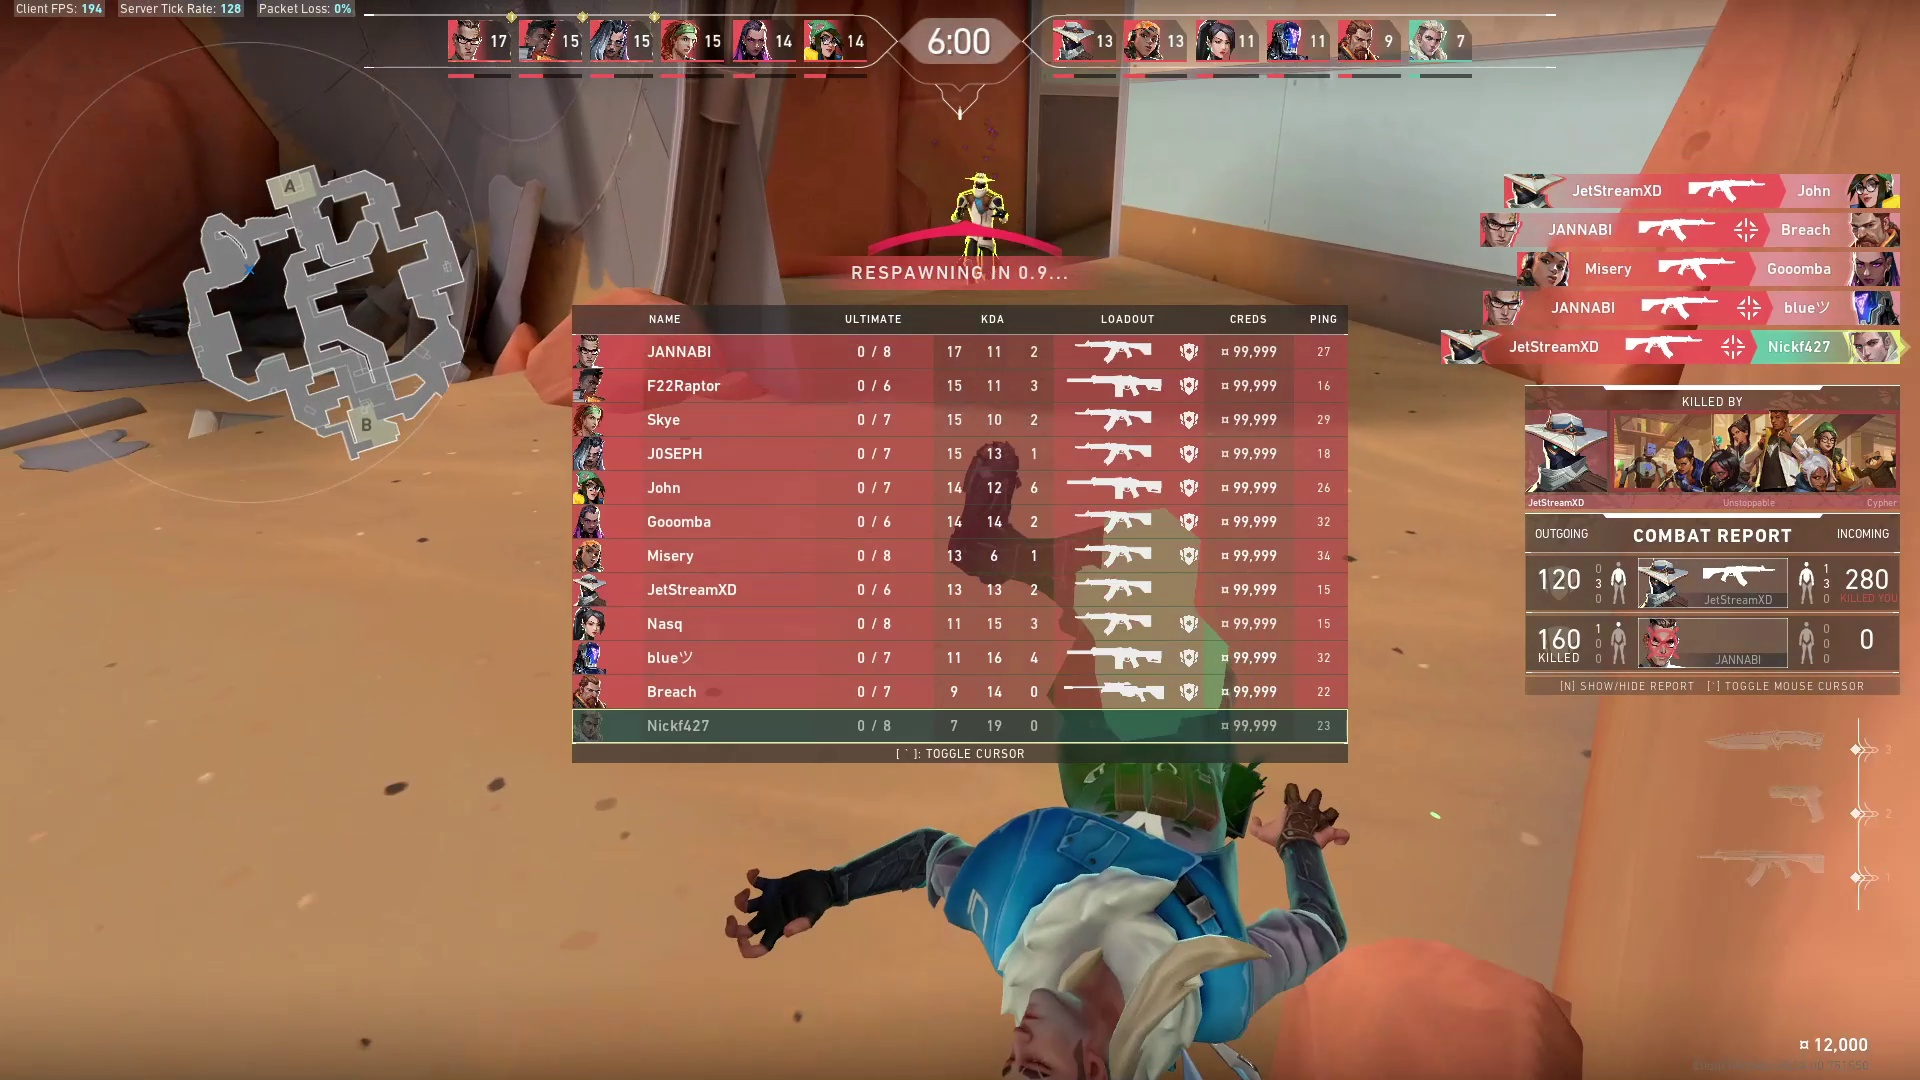enemy_body: (953, 190, 1005, 289)
enemy_head: (967, 169, 995, 191)
